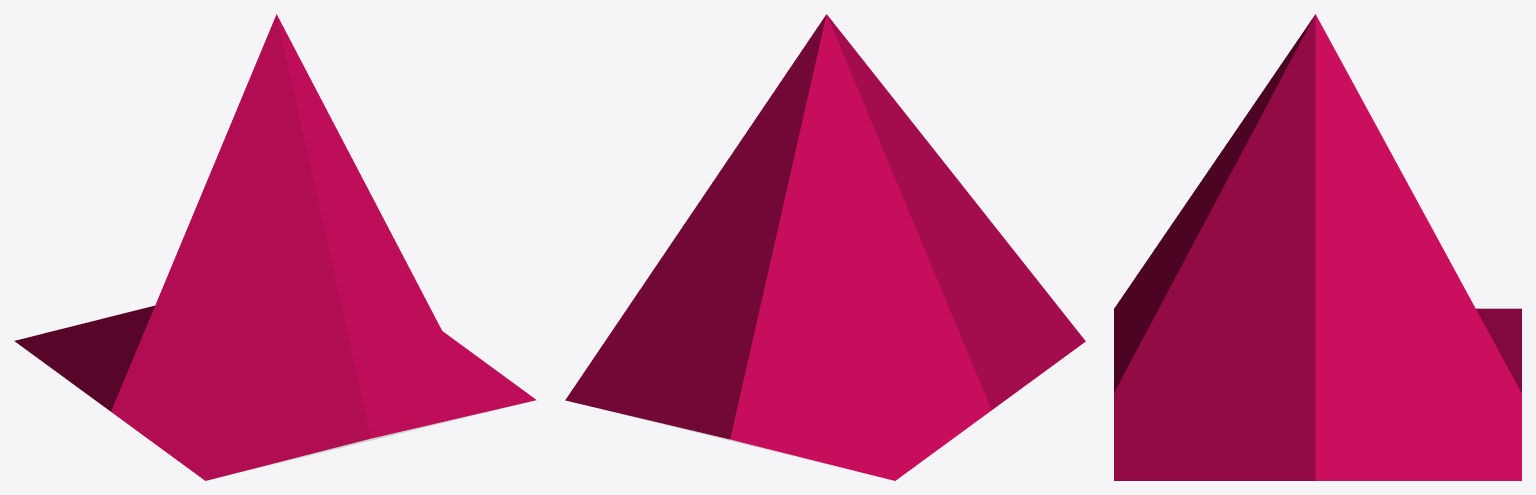
Rendered from spike2.fbx.
3 views of the same model, side by side, from view 1: azimuth 30°, elevation 25°; view 2: azimuth 150°, elevation 25°; view 3: azimuth 270°, elevation 25° (orthographic). The views are drawn at different scales.
Parts seen in each view (by area): view 1: Plane.001; view 2: Plane.001; view 3: Plane.001.
Part boxes in pixels (bbox=[...]): Plane.001: bbox=[14, 14, 536, 480]; Plane.001: bbox=[565, 14, 1085, 480]; Plane.001: bbox=[1114, 14, 1521, 480].
Bounding box in the file's own units: 200 × 206 × 200.
